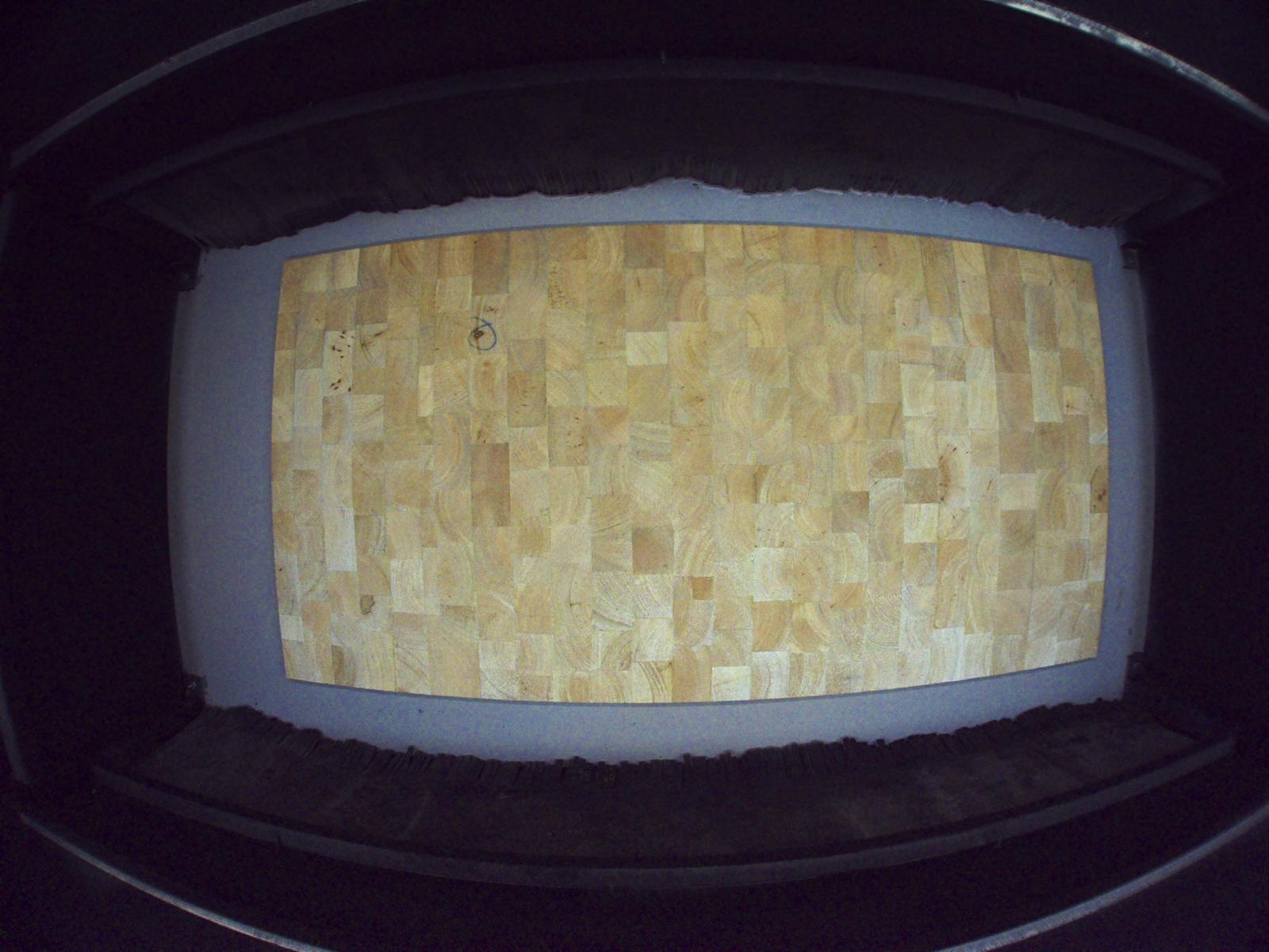sheck_ecuatoriano: (471, 294, 490, 355)
